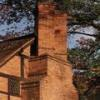chimneys: (34, 3, 68, 60)
